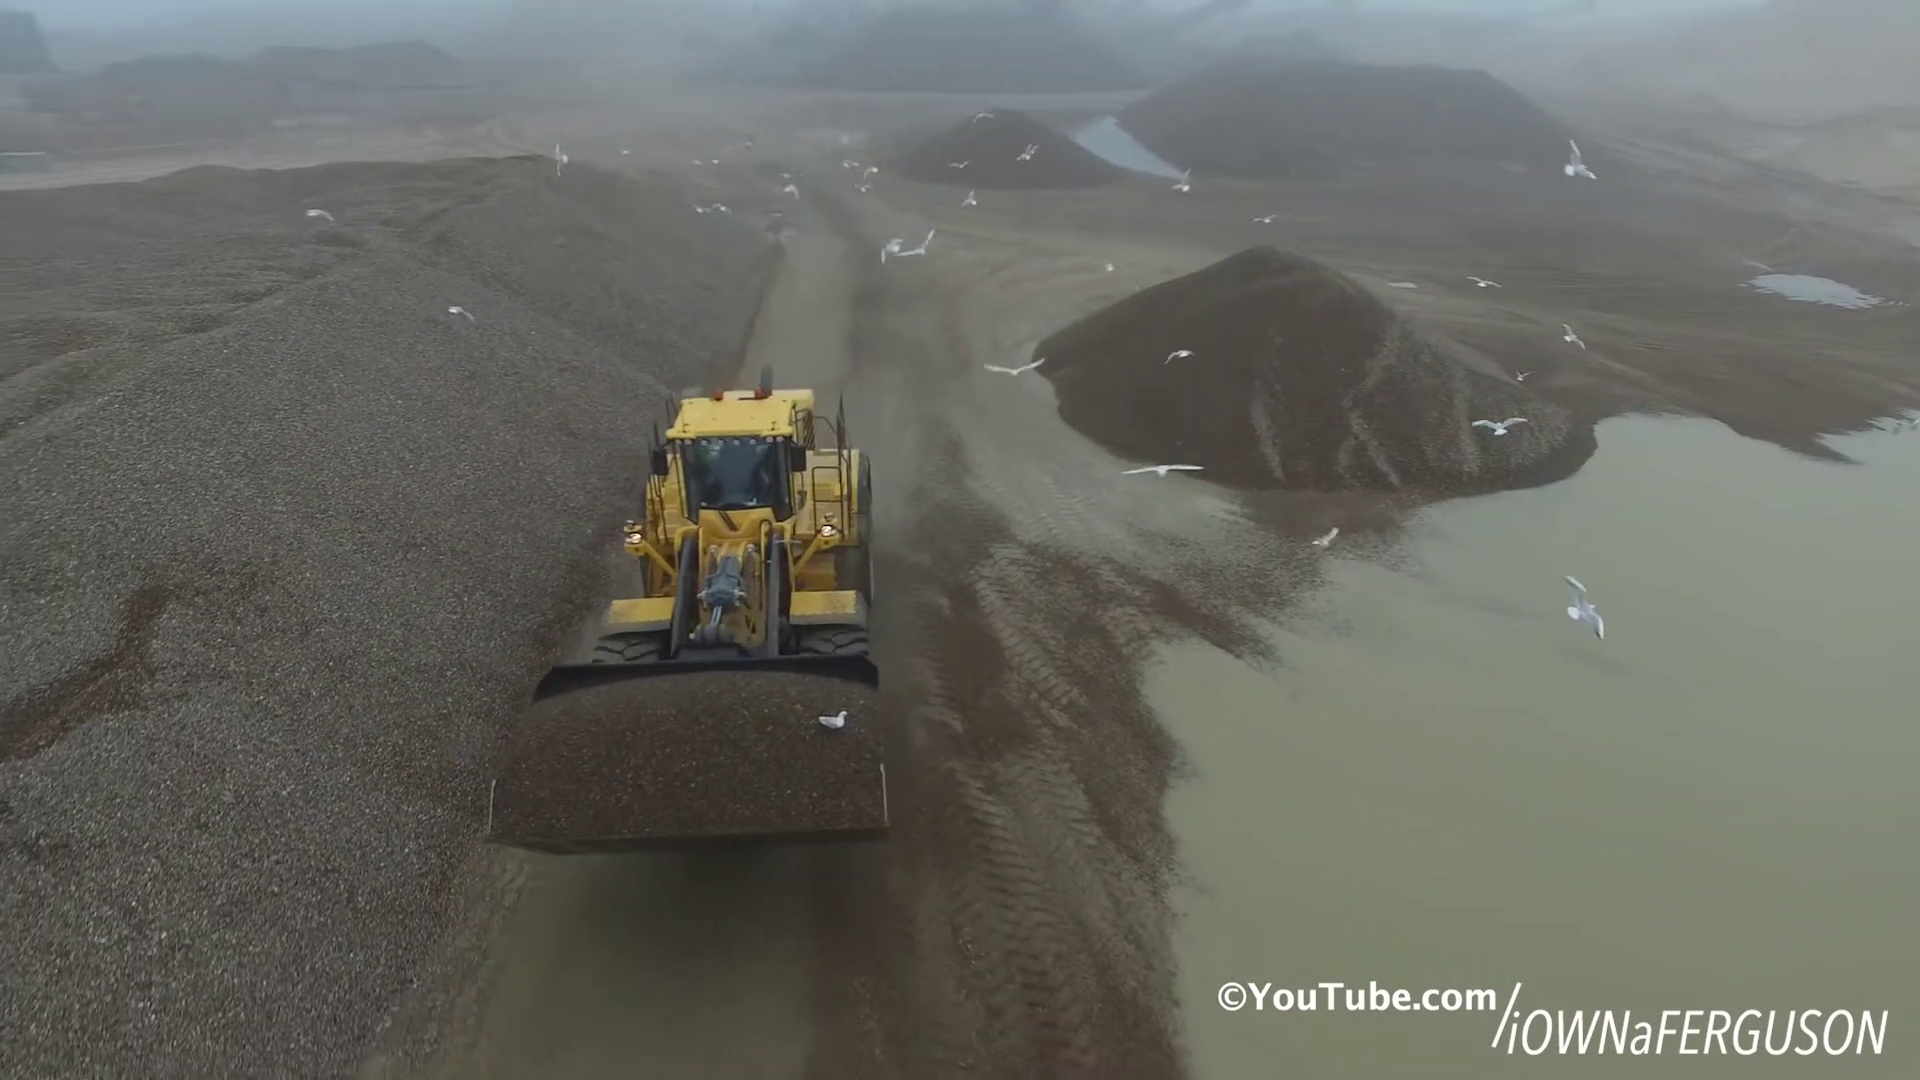wheel loader: (479, 361, 897, 849)
